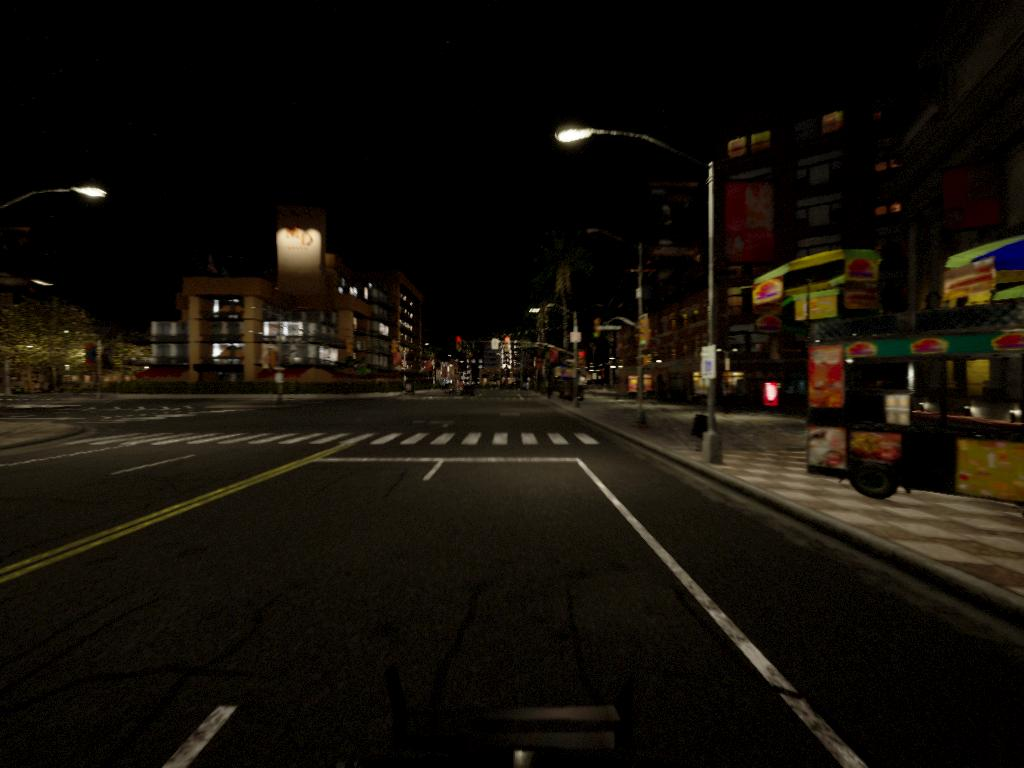traffic_light: (579, 351, 588, 368), (594, 320, 601, 340), (457, 336, 463, 352)
